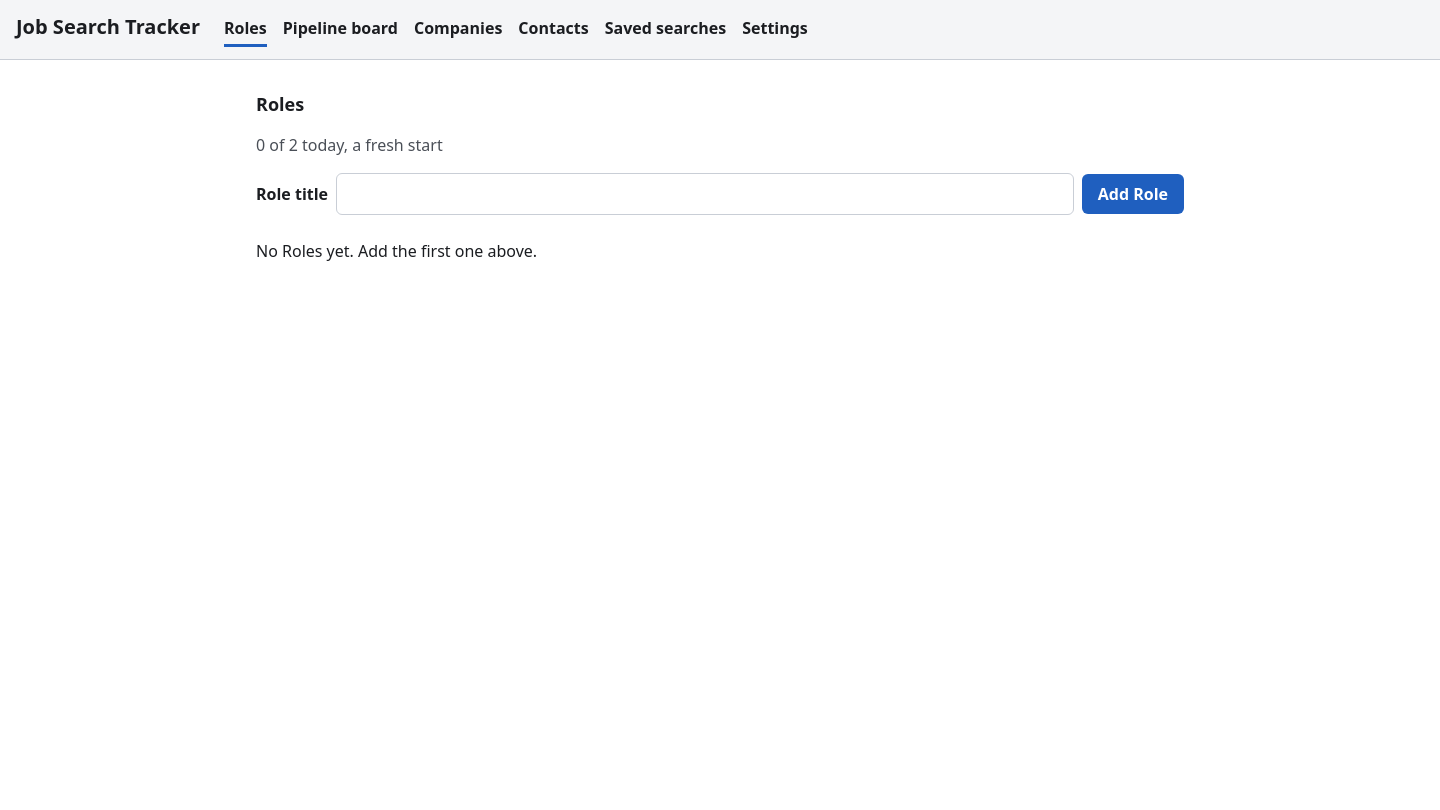
Test case: Saved searches page › Given two Saved searches, when I delete one and confirm, then only the other is listed
Click the link "Saved searches": (665, 30) left=605, top=12, right=726, bottom=47
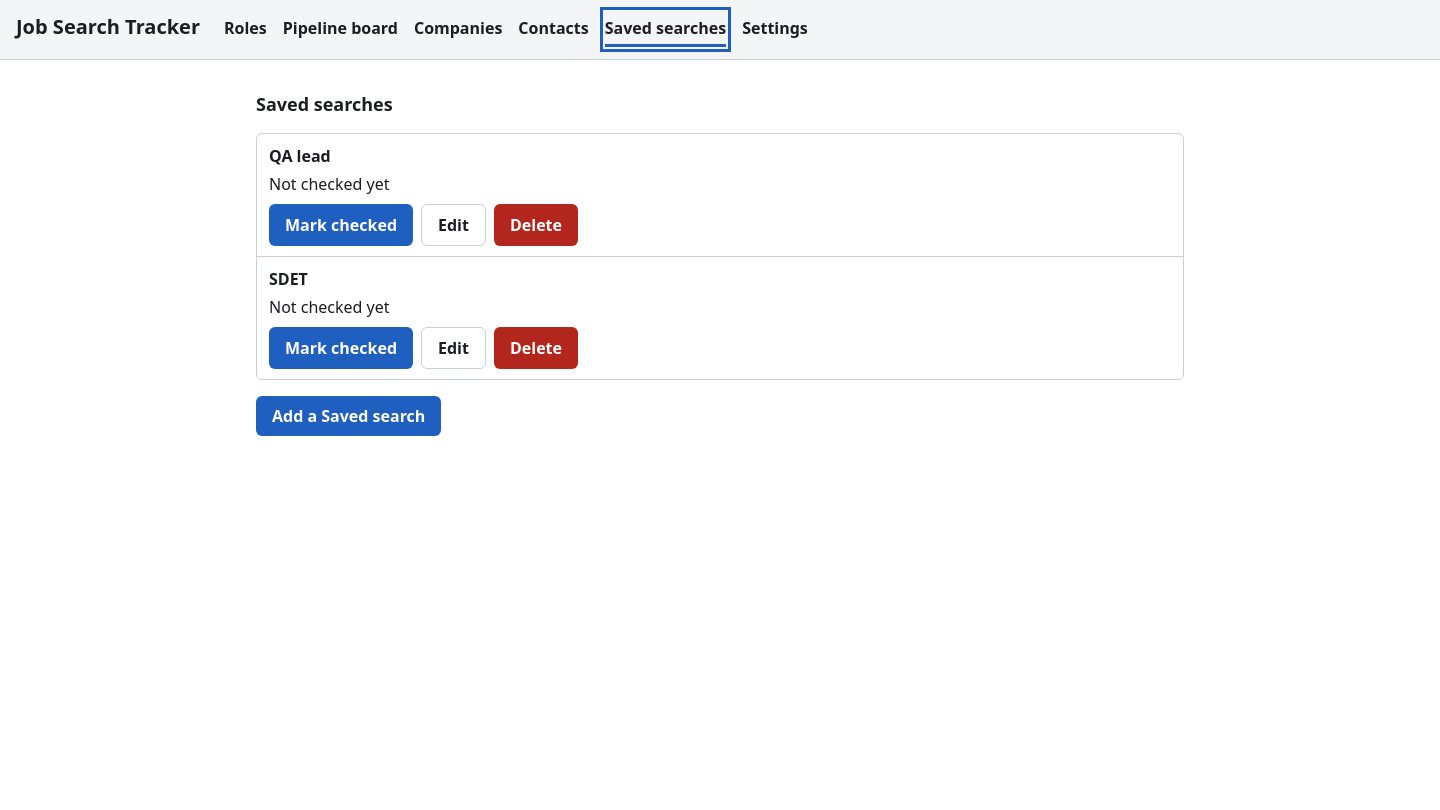
Expected: the heading "Saved searches" is shown, left=256, top=92, right=393, bottom=116
Click the button with aria-label "Delete QA lead": (536, 225) left=494, top=204, right=578, bottom=246
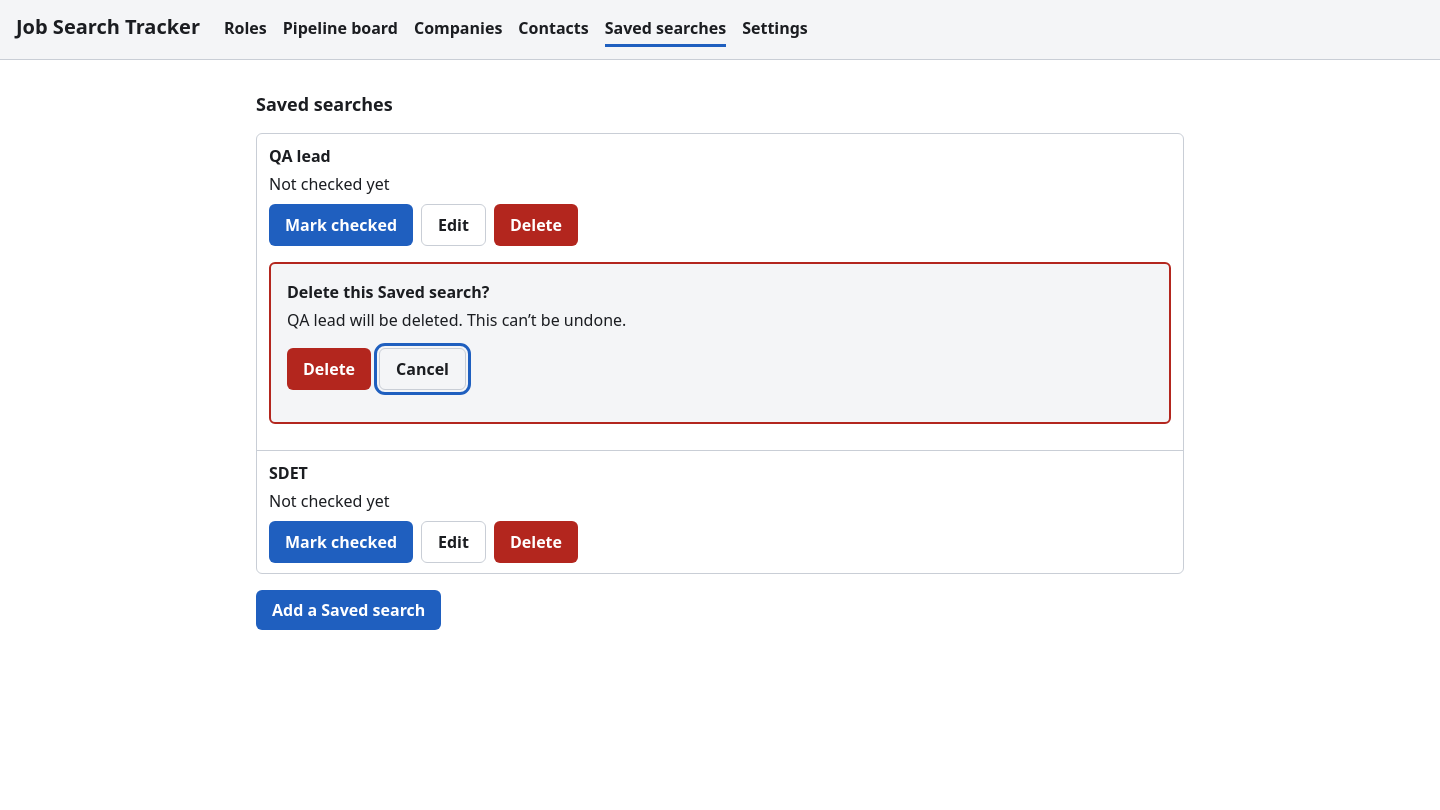
Click the button "Delete" below "QA lead will be deleted.": (329, 369) left=287, top=348, right=371, bottom=390
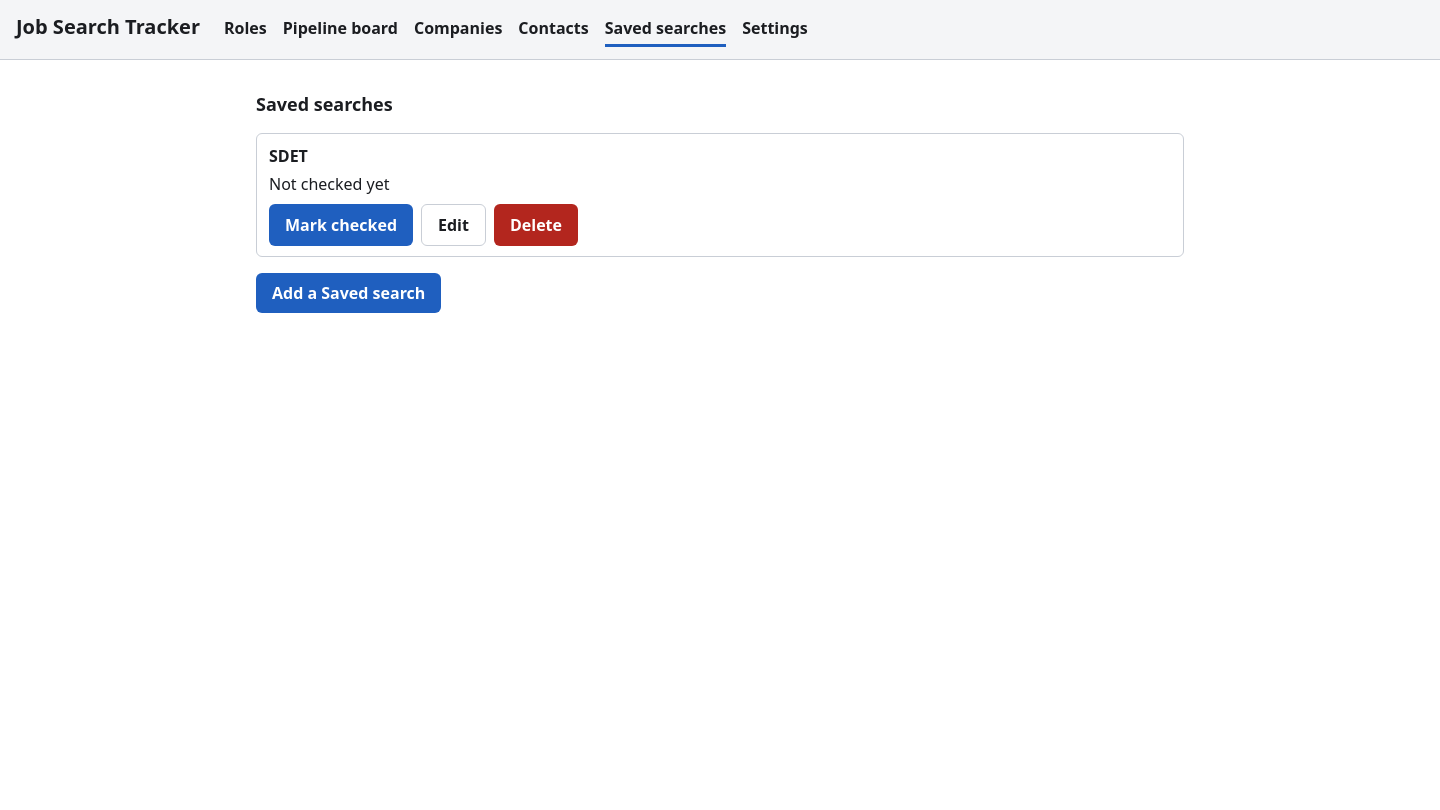
Expected: the heading "SDET" is shown, left=269, top=145, right=308, bottom=167
Expected: the heading "QA lead" is gone
Expected: the number of list items is 1, left=269, top=145, right=578, bottom=246
